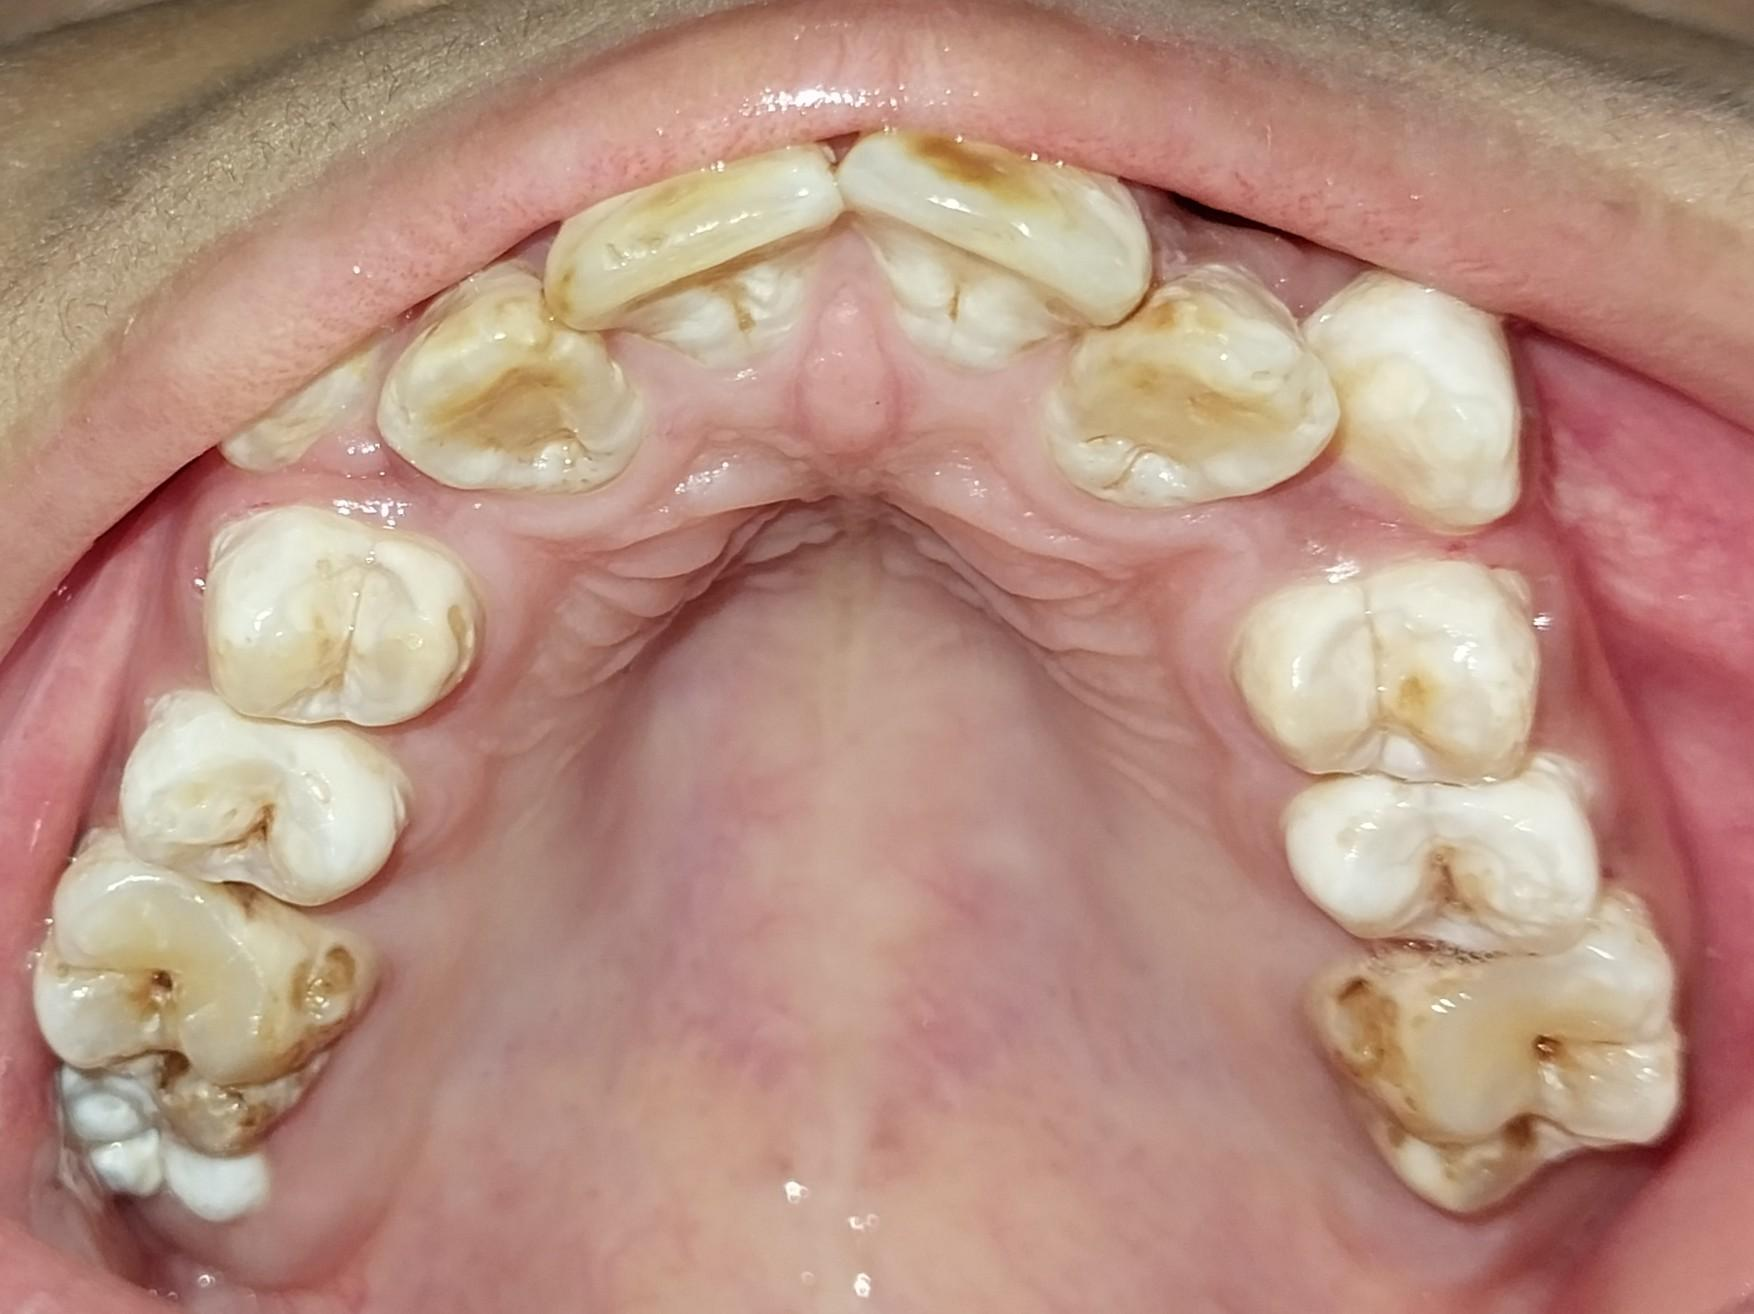D: (1310, 894, 1707, 1213), (29, 835, 373, 1156), (118, 691, 413, 913), (1283, 762, 1600, 956)
